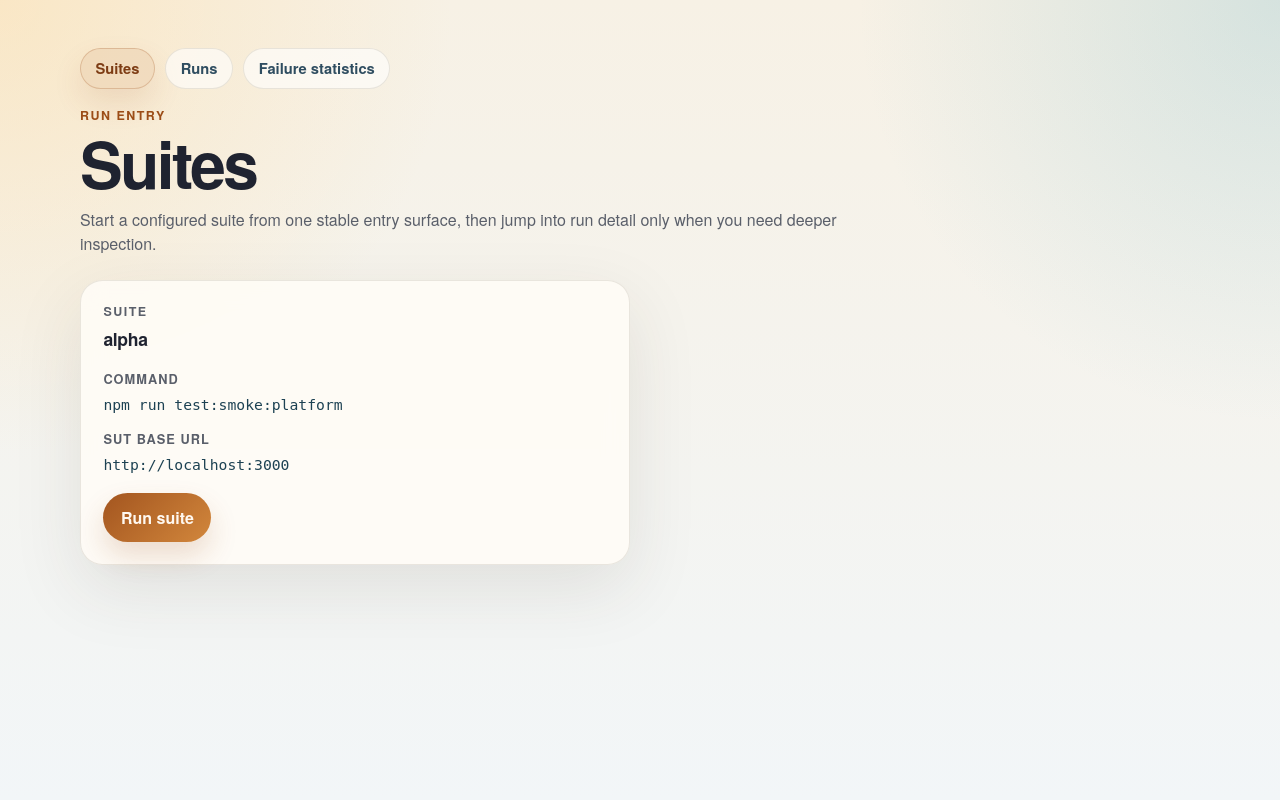
Test: loads runs when the suites navigation link is clicked
Click the link "Runs" at (199, 68), box [165,48,233,89]
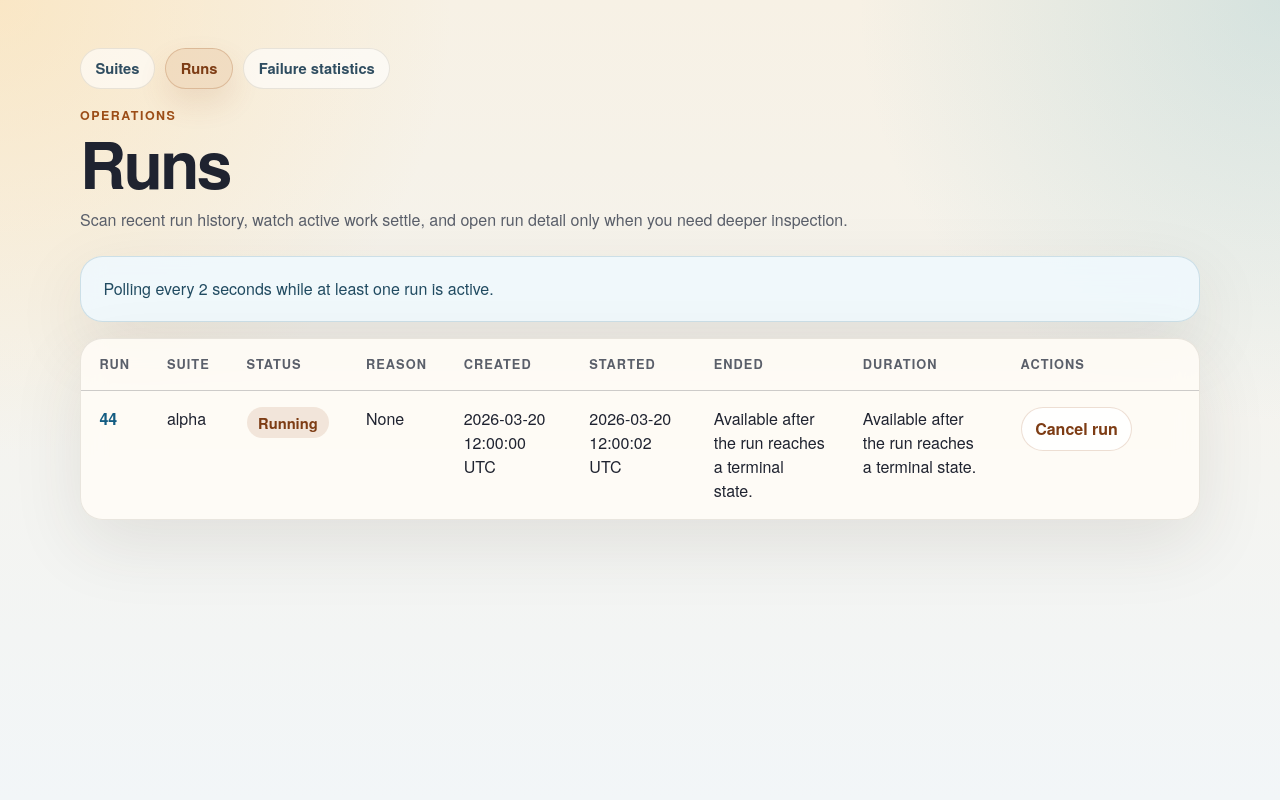
expect the heading "Runs" is shown: met, box [80,117,230,209]
